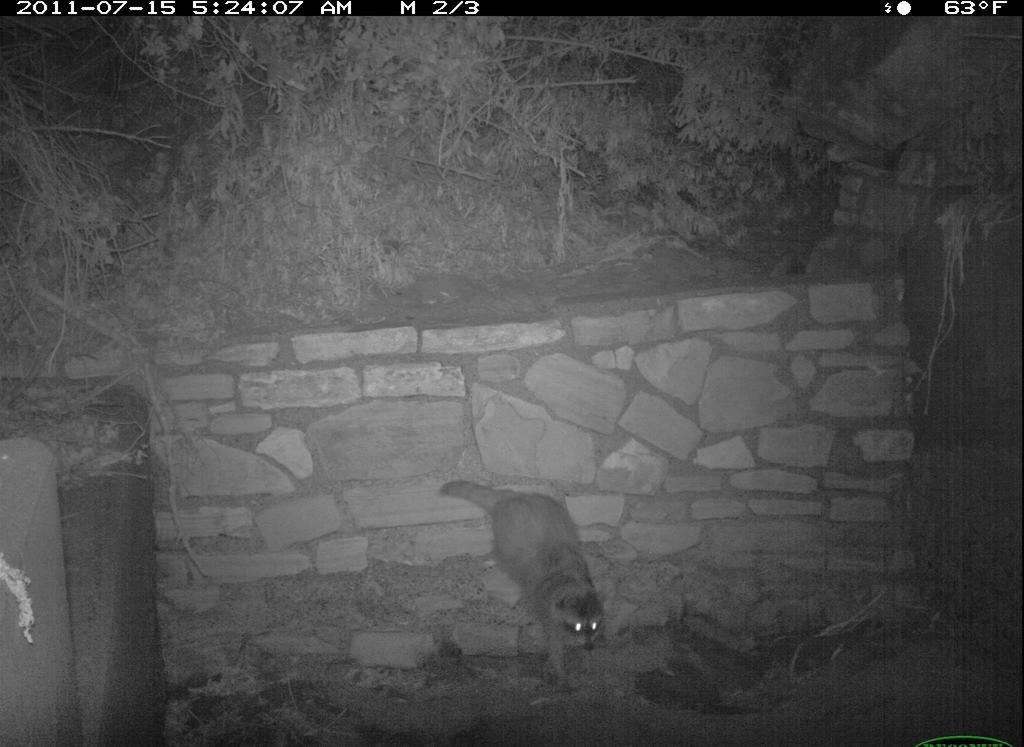raccoon: (429, 450, 634, 699)
